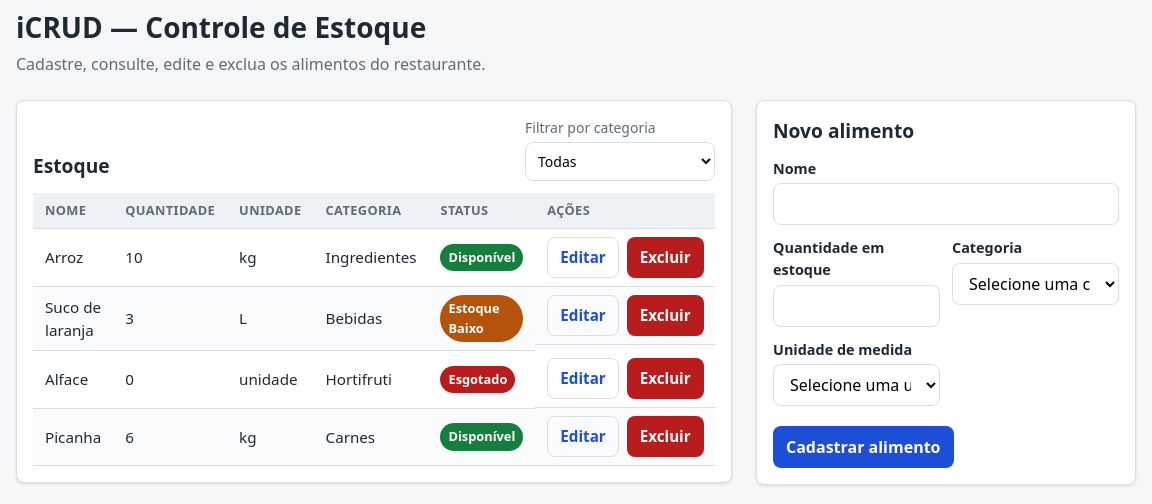
Test: US2 — list and filter › shows an explicit empty state for a category without items
Expected: the text "Arroz" is shown, x1=33 y1=229 x2=113 y2=287
Select "Laticínios" in the dropdown labelled "Filtrar por categoria" at (620,162), box x1=525 y1=142 x2=715 y2=181
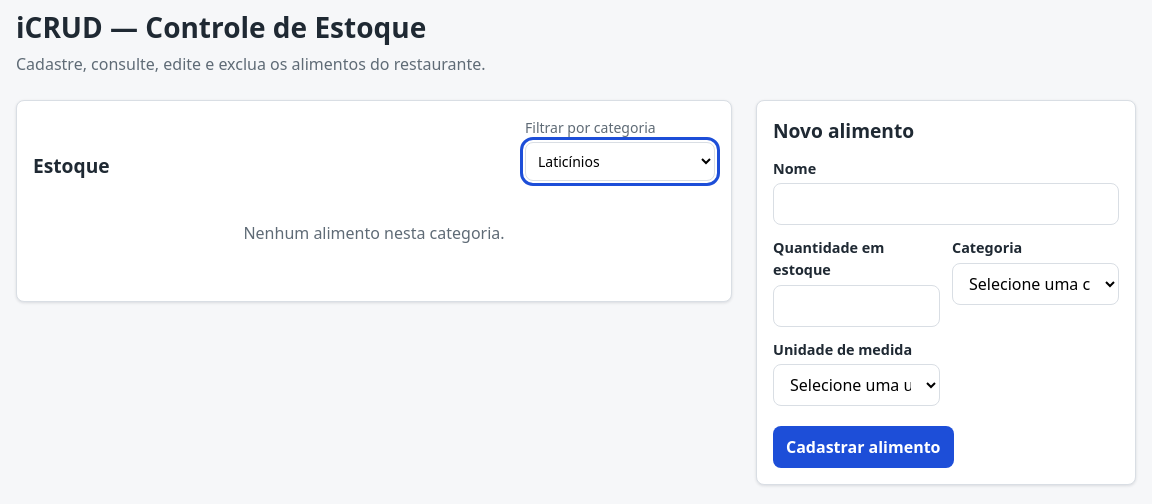
Result: the text "Nenhum alimento nesta categoria." is shown at x1=243 y1=222 x2=505 y2=244
